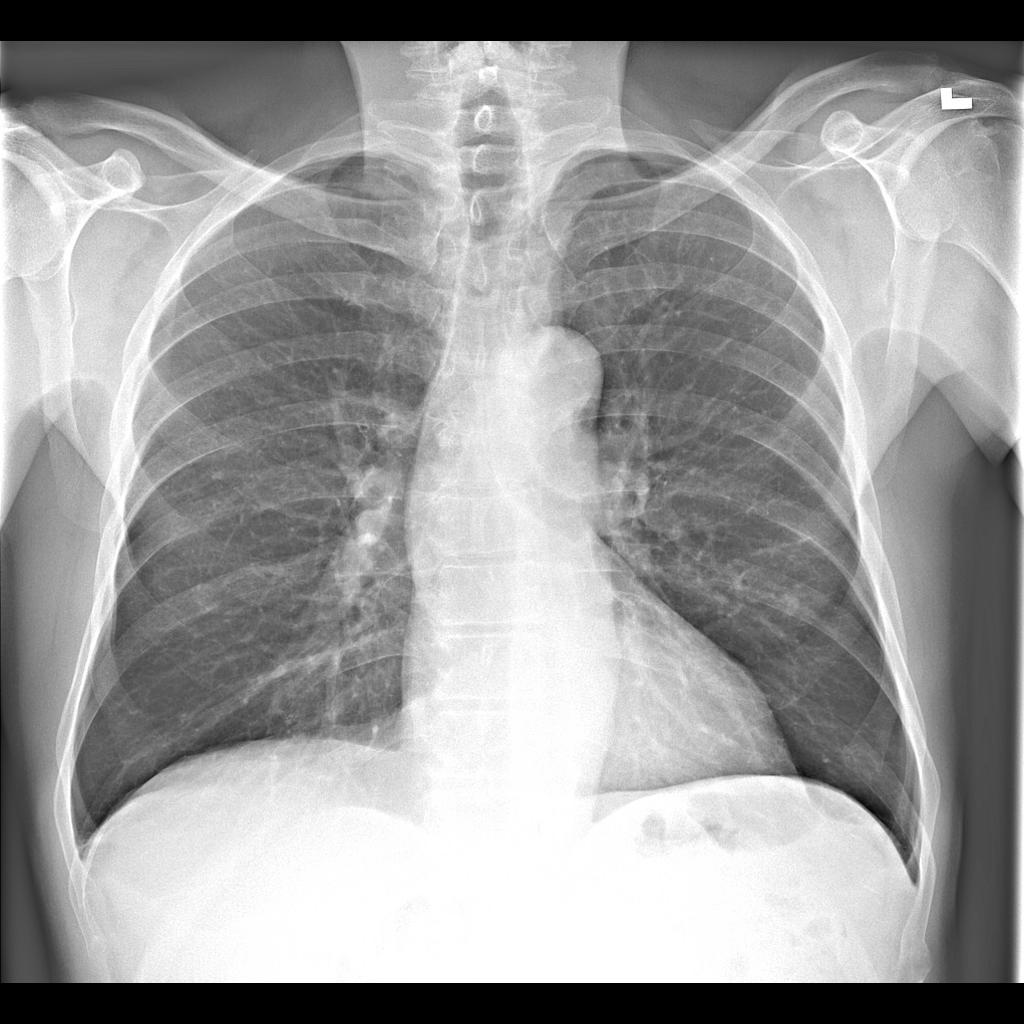Nodule: (773, 590, 804, 627)
